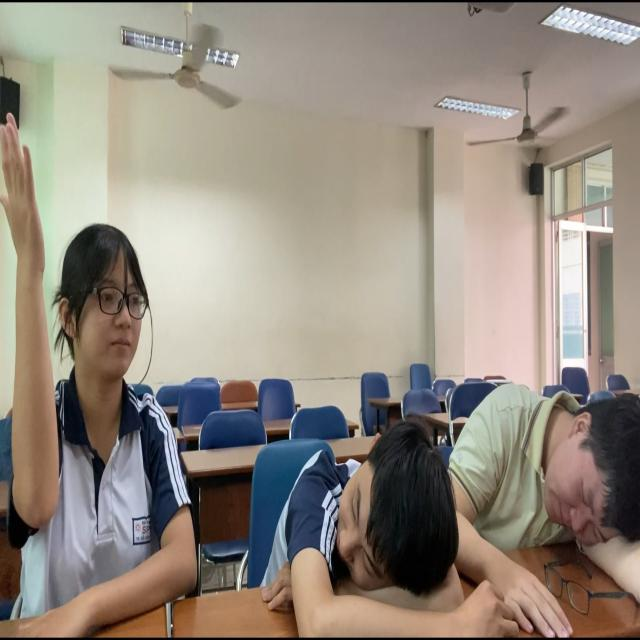raise_hand: (1, 104, 198, 615)
sleep: (261, 431, 523, 640), (441, 381, 640, 638)
